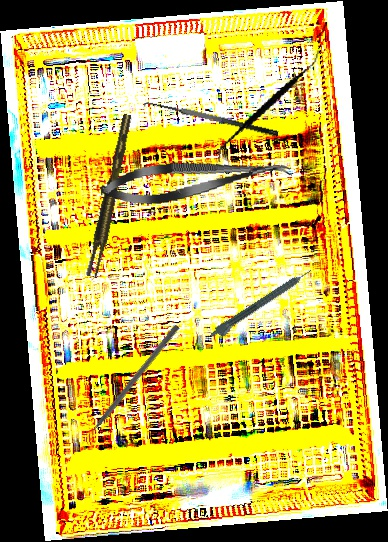Handpiece: (208, 266, 317, 344)
Micro Scissor: (98, 148, 294, 211)
Pusher: (78, 323, 180, 447)
Spatula Surgical: (216, 32, 321, 180), (141, 94, 280, 149)
Tissue Forceps: (80, 113, 141, 279)
